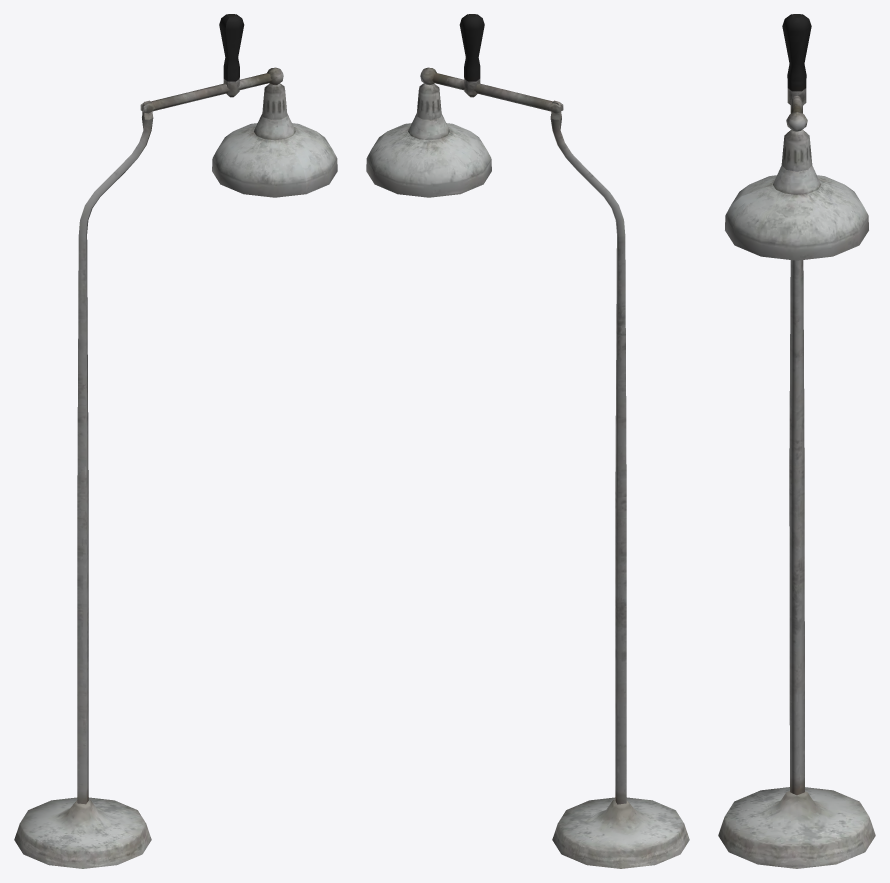
File: lamp.glb
3 renders of one model, left to right at view 1: azimuth 30°, elevation 25°; view 2: azimuth 150°, elevation 25°; view 3: azimuth 270°, elevation 25°, orthographic. The views are drawn at different scales.
Visible parts, largest first — view 1: zp_lamp; view 2: zp_lamp; view 3: zp_lamp.
Part boxes in pixels (box(x1,y1,x2,y2)): zp_lamp: box(14, 14, 337, 868); zp_lamp: box(366, 14, 689, 868); zp_lamp: box(718, 14, 875, 868).
Bounding box in the file's own units: 1.07 × 2.63 × 0.416.
Materials: 2 (2 with a texture image).
